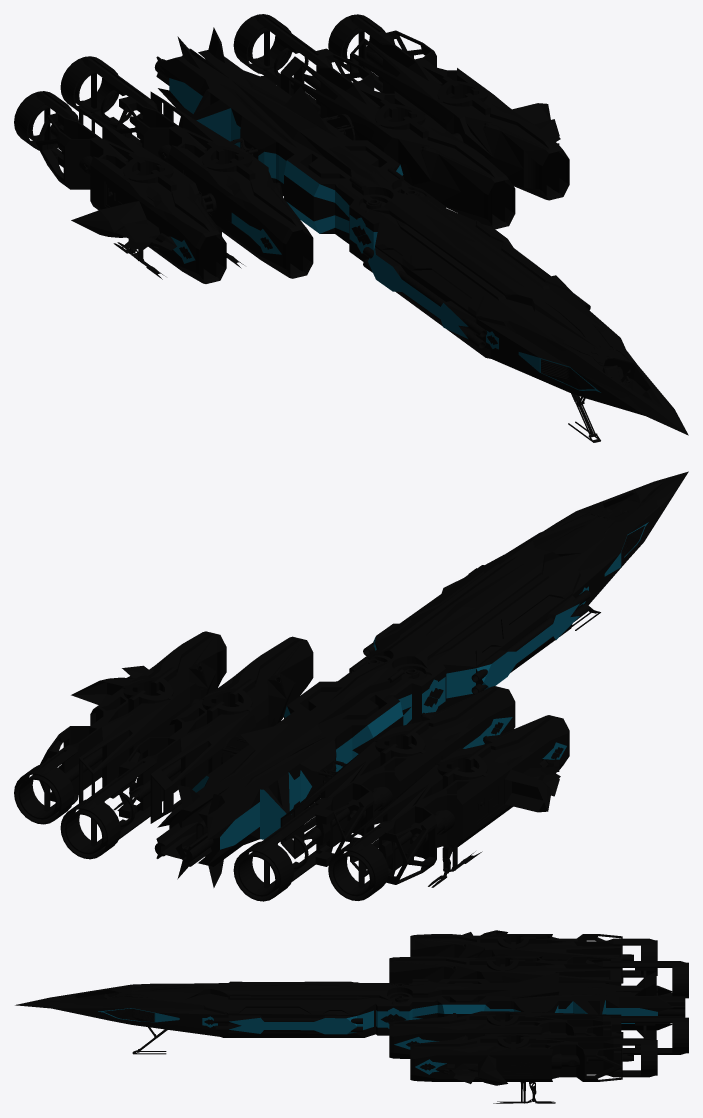
File: exterior.glb
The picture shows the model from 3 angles, top to bottom: view 1: azimuth 30°, elevation 25°; view 2: azimuth 150°, elevation 25°; view 3: azimuth 270°, elevation 25°; orthographic projection. The views are drawn at different scales.
Parts seen in each view (by area): view 1: LightBlaze, Window1; view 2: LightBlaze; view 3: LightBlaze, Window1.
Boxes of the visible parts, left/top/right/bottom form: LightBlaze: left=14, top=14, right=688, bottom=442; Window1: left=603, top=359, right=654, bottom=402; LightBlaze: left=14, top=471, right=688, bottom=901; LightBlaze: left=15, top=930, right=688, bottom=1103; Window1: left=60, top=990, right=117, bottom=999.
Bounding box in the file's own units: 555241 × 129647 × 1043513.
